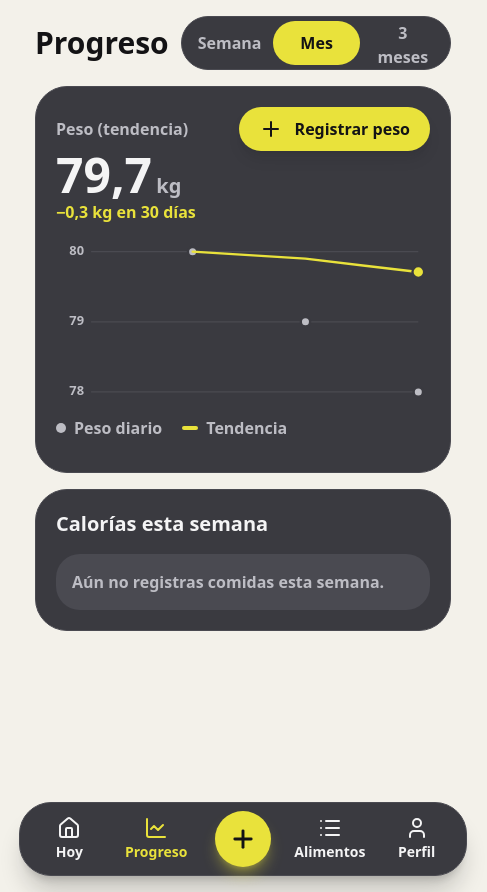
Test case: ProgressPage › weight › invites to log more with fewer than 3 weights in the period (HU-14 CA4)
expect the text "79,7" is shown: met, box [56,142,152,207]
Click the button "Semana" at {"x": 230, "y": 43}, box [186,21,274,65]
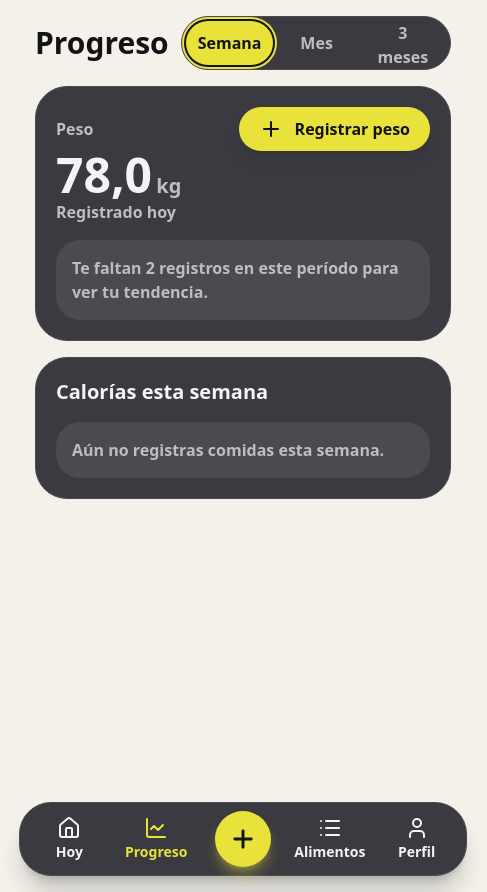
expect the text "Te faltan 2 registros en este período para ver tu tendencia." is shown: met, box [56,240,430,320]
expect the text "78,0" is shown: met, box [56,142,152,207]
expect the text "Registrado hoy" is shown: met, box [56,201,176,223]
